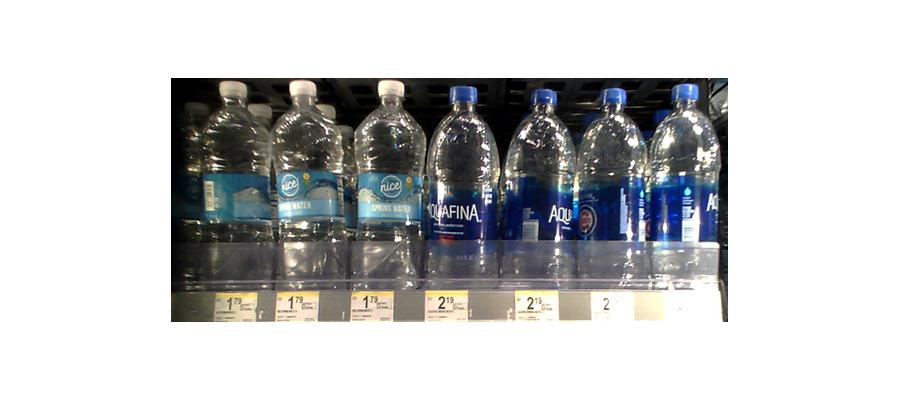bottle: (349, 76, 424, 290), (270, 79, 347, 287), (197, 79, 270, 289), (573, 83, 646, 291), (500, 84, 574, 284), (648, 81, 719, 289), (426, 81, 496, 285)
